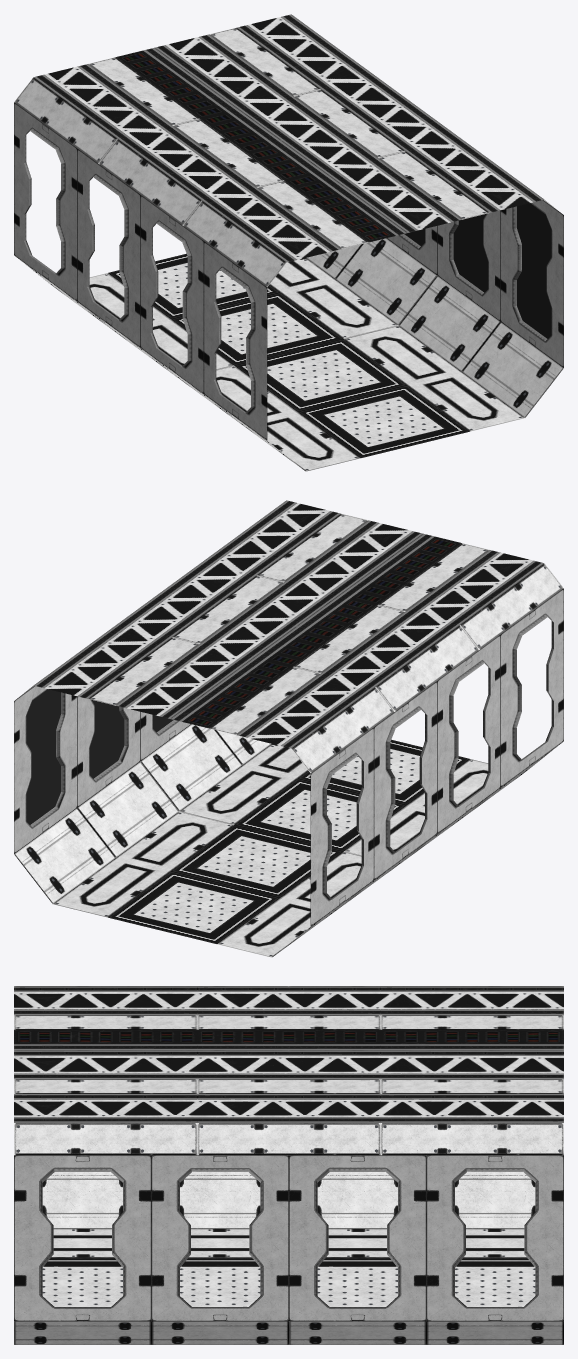
File: sci-fi_corridor_trimsheet.glb
The picture shows the model from 3 angles, top to bottom: view 1: azimuth 30°, elevation 25°; view 2: azimuth 150°, elevation 25°; view 3: azimuth 270°, elevation 25°; orthographic projection. The views are drawn at different scales.
Parts seen in each view (by area): view 1: corridor_windows_straight, corridor_windows_windows; view 2: corridor_windows_straight, corridor_windows_windows; view 3: corridor_windows_straight.
Boxes of the visible parts, x1,y1,x2,y2 form: corridor_windows_straight: [14, 14, 563, 471]; corridor_windows_windows: [404, 203, 551, 338]; corridor_windows_straight: [14, 500, 563, 957]; corridor_windows_windows: [26, 689, 173, 824]; corridor_windows_straight: [14, 986, 563, 1344].
Size of the model in its own units: 4.07 by 2.75 by 5.9.
2 materials, 1 textured.
